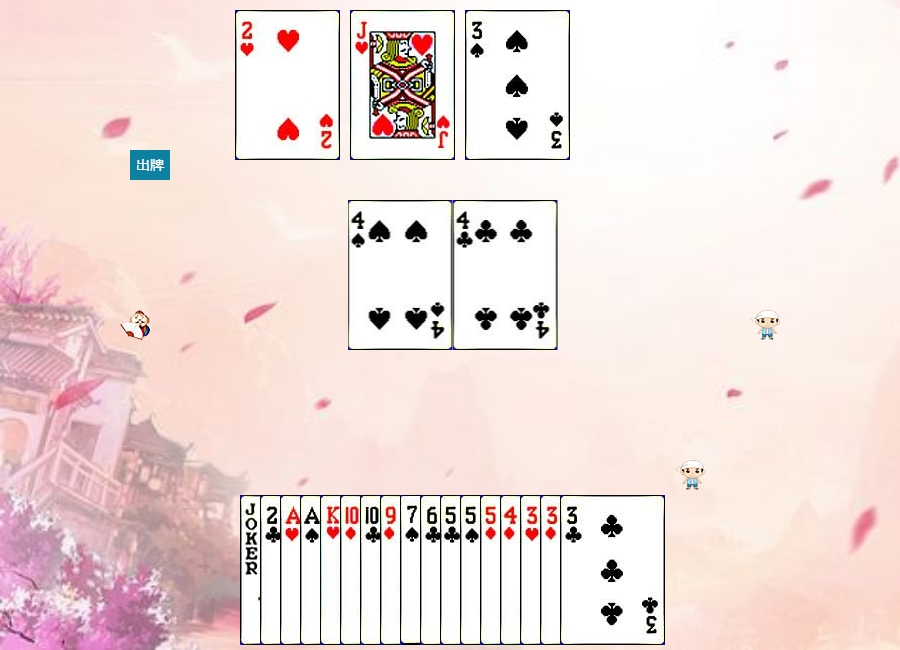10~1: (340, 495, 445, 645)
10~2: (360, 495, 465, 645)
11~3: (350, 10, 455, 160)
13~3: (320, 495, 425, 645)
14~3: (280, 495, 385, 645)
14~4: (300, 495, 405, 645)
15~2: (260, 495, 365, 645)
15~3: (235, 10, 340, 160)
17~3: (240, 495, 345, 645)
3~1: (540, 495, 645, 645)
3~2: (560, 495, 665, 645)
3~3: (520, 495, 625, 645)
3~4: (465, 10, 570, 160)
4~1: (500, 495, 605, 645)
4~2: (453, 200, 558, 350)
4~4: (348, 200, 453, 350)
5~1: (480, 495, 585, 645)
5~2: (440, 495, 545, 645)
5~4: (460, 495, 565, 645)
6~2: (420, 495, 525, 645)
7~4: (400, 495, 505, 645)
9~1: (380, 495, 485, 645)
